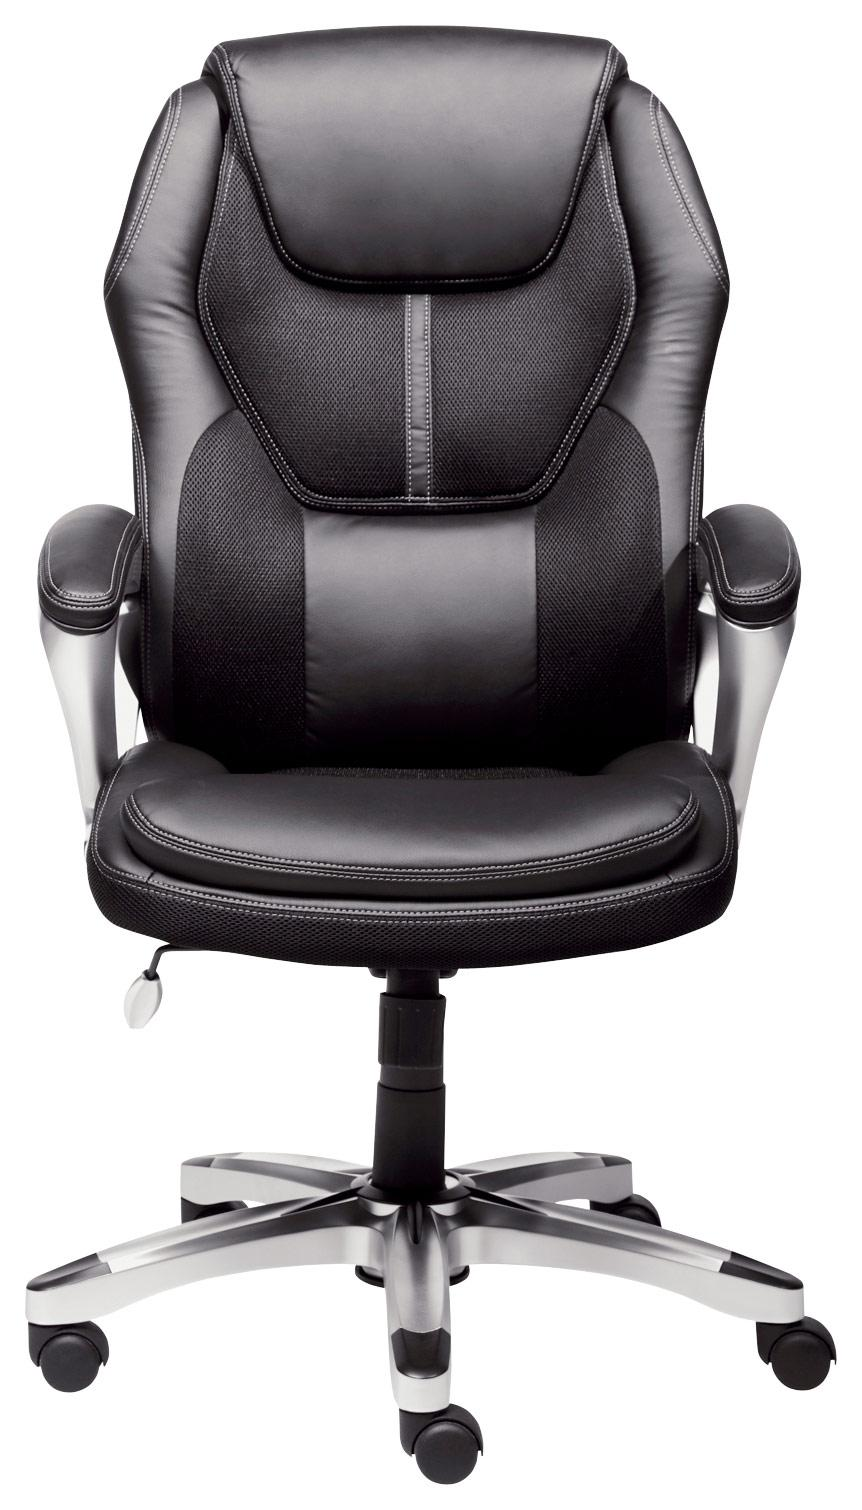chair: (11, 16, 853, 1498)
